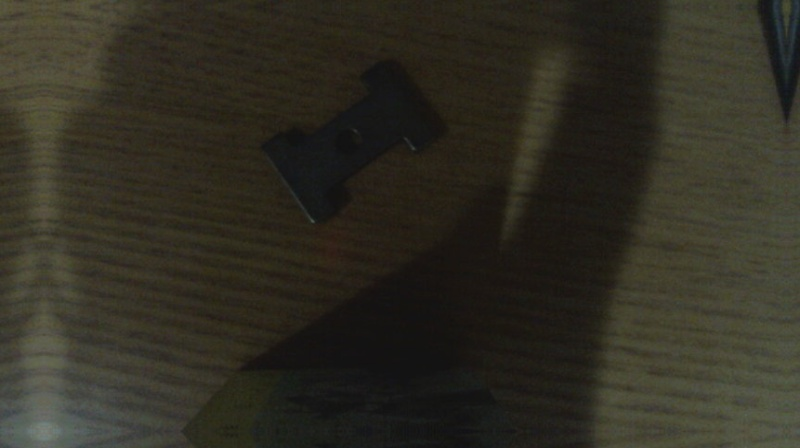O002: (258, 55, 449, 227)
